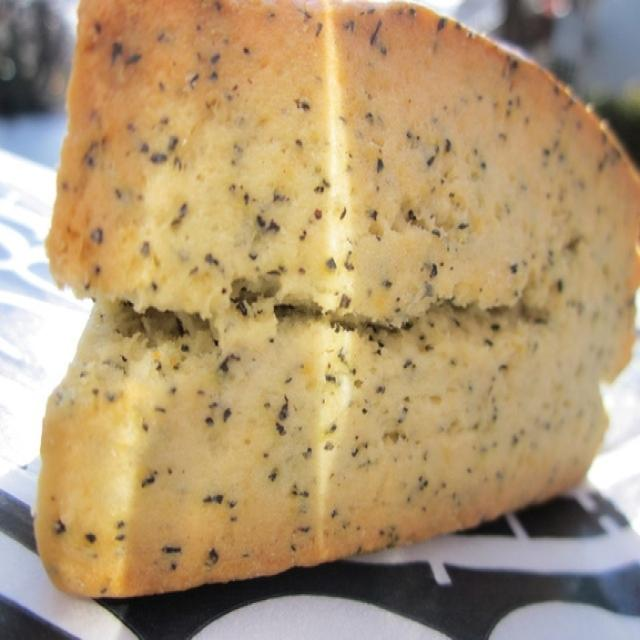面包点心: (34, 8, 634, 588)
